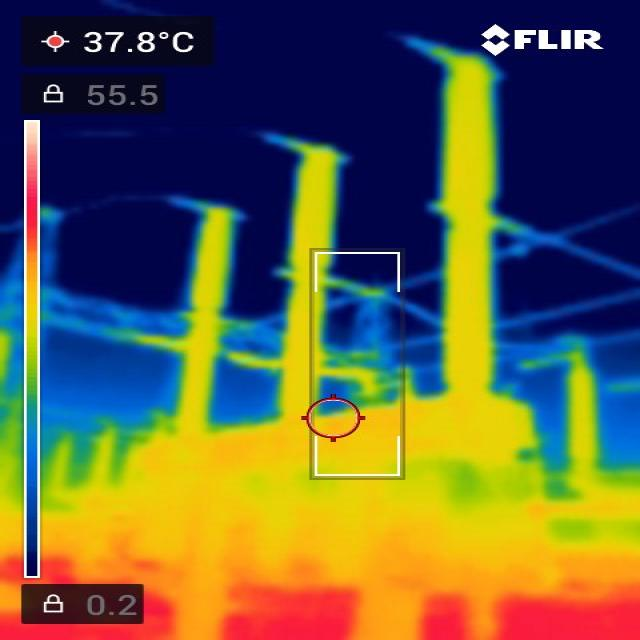Zona_Critica: (226, 585, 355, 638), (506, 598, 637, 638)
